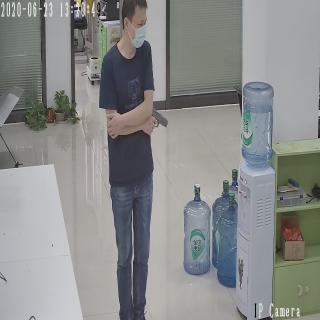gun: (146, 101, 168, 131)
